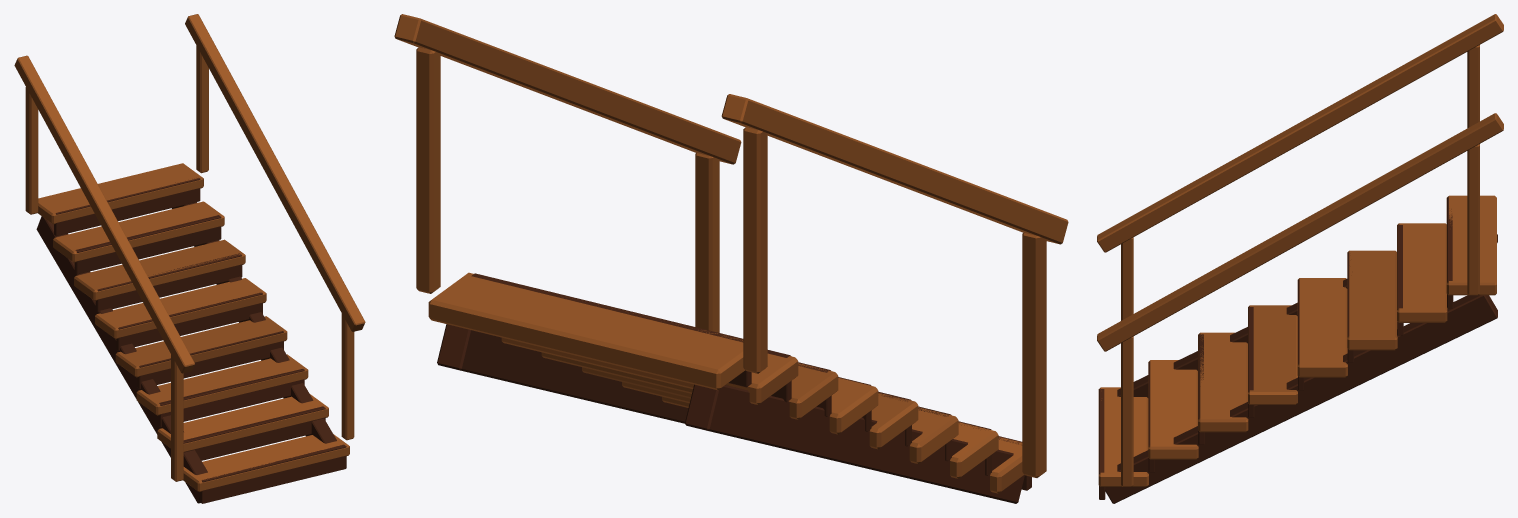
Rendered from EH_TimberStair_8Rise.fbx.
3 renders of one model, left to right at view 1: azimuth 30°, elevation 25°; view 2: azimuth 150°, elevation 25°; view 3: azimuth 270°, elevation 25°, orthographic. The views are drawn at different scales.
Parts seen in each view (by area): view 1: EH_TimberStair_8Rise; view 2: EH_TimberStair_8Rise; view 3: EH_TimberStair_8Rise.
Part boxes in pixels (<box>): EH_TimberStair_8Rise: <box>14,14,365,503</box>; EH_TimberStair_8Rise: <box>394,14,1068,503</box>; EH_TimberStair_8Rise: <box>1097,14,1503,503</box>.
Bounding box in the file's own units: 1.41 × 2.47 × 2.29.
